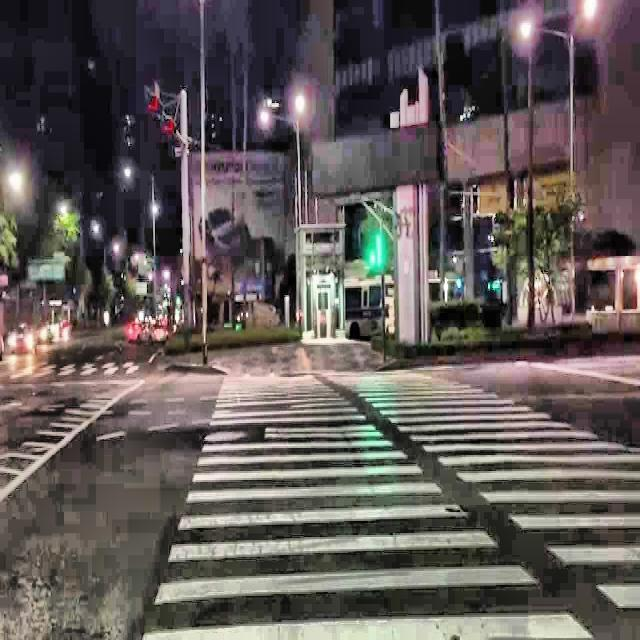crosswalk: (145, 374, 598, 638), (326, 367, 640, 614)
